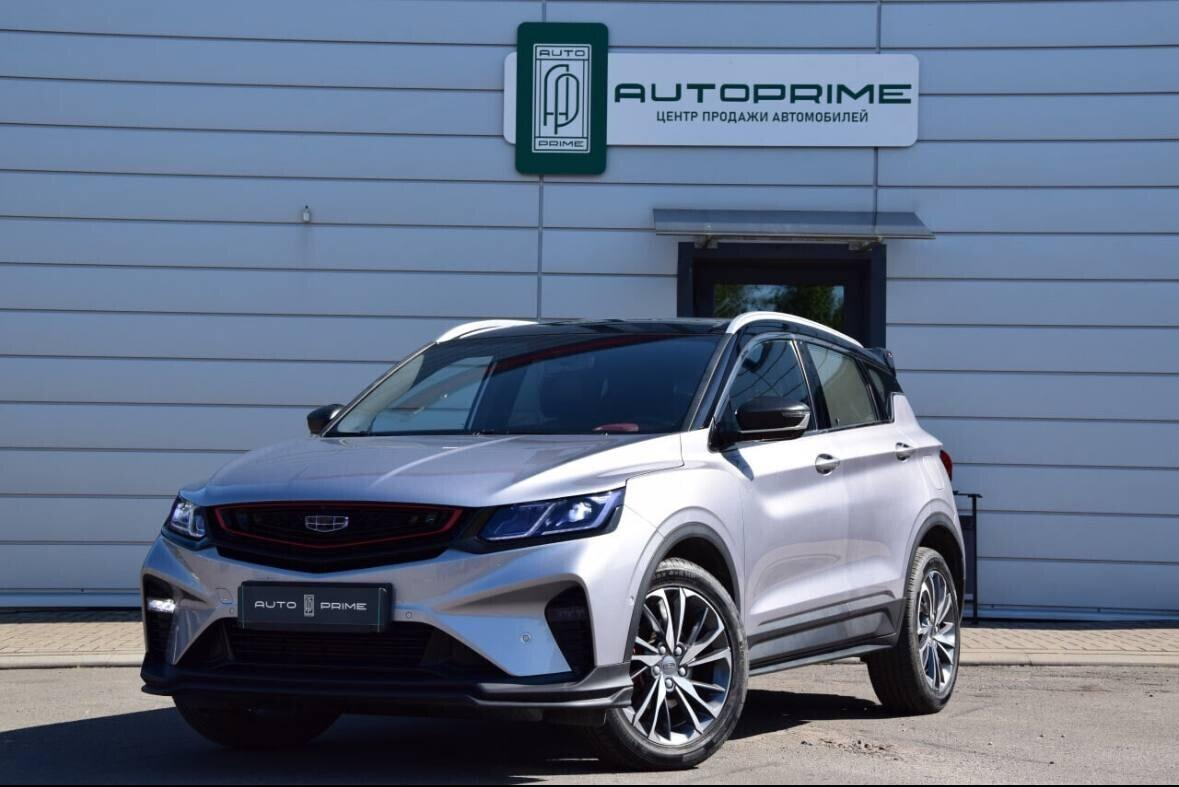Coolray_2019-2023: (139, 304, 972, 768)
